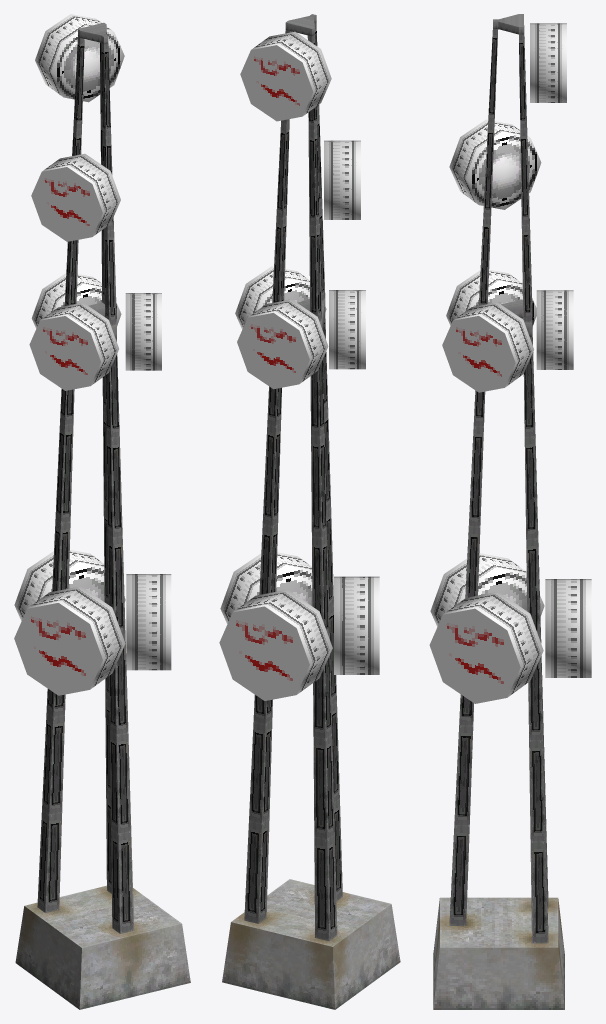
Rendered from RadioMast.glb.
3 renders of one model, left to right at view 1: azimuth 30°, elevation 25°; view 2: azimuth 150°, elevation 25°; view 3: azimuth 270°, elevation 25°, orthographic. The views are drawn at different scales.
Parts seen in each view (by area): view 1: RADIOMAST; view 2: RADIOMAST; view 3: RADIOMAST.
Part boxes in pixels (bbox=[...]): RADIOMAST: bbox=[14, 14, 190, 1009]; RADIOMAST: bbox=[219, 14, 400, 1009]; RADIOMAST: bbox=[429, 14, 591, 1009].
Size of the model in its own units: 2.82 by 16.12 by 2.46.
9 materials, 9 textured.
